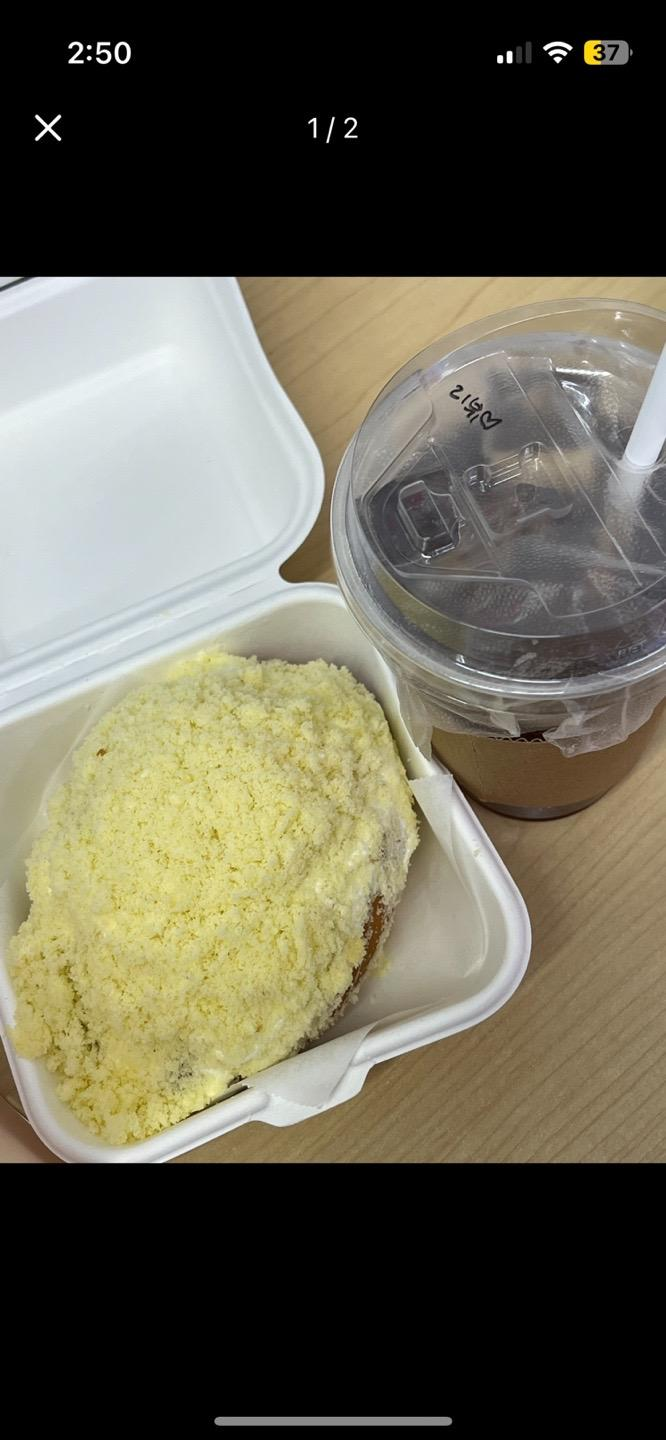Bottle: (332, 299, 665, 818)
Lunch Box: (0, 278, 530, 1162)
